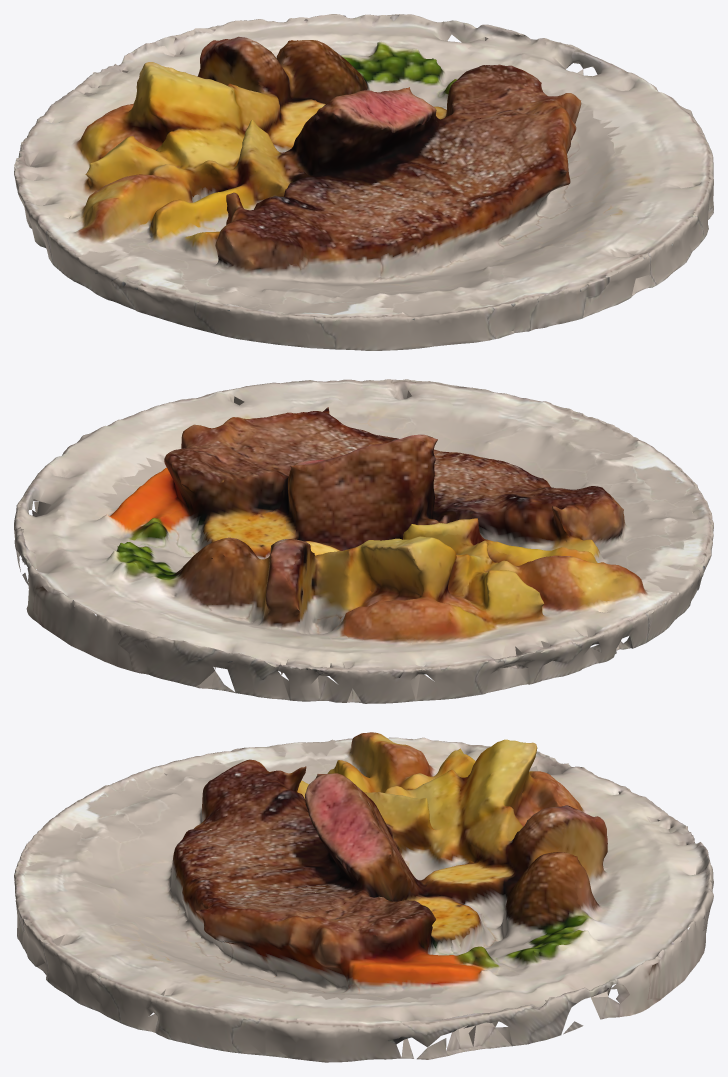
The model's file is steak-bife-ancho-batatas-android.glb.
The picture shows the model from 3 angles, top to bottom: view 1: azimuth 30°, elevation 25°; view 2: azimuth 150°, elevation 25°; view 3: azimuth 270°, elevation 25°; orthographic projection.
Visible parts, largest first — view 1: mesh_main_0; view 2: mesh_main_0; view 3: mesh_main_0.
Boxes of the visible parts, <box> form: mesh_main_0: <box>14,14,713,350</box>; mesh_main_0: <box>14,379,713,703</box>; mesh_main_0: <box>14,732,713,1062</box>.
Size of the model in its own units: 0.2665 by 0.0516 by 0.2665.
Materials: 1 (1 with a texture image).
